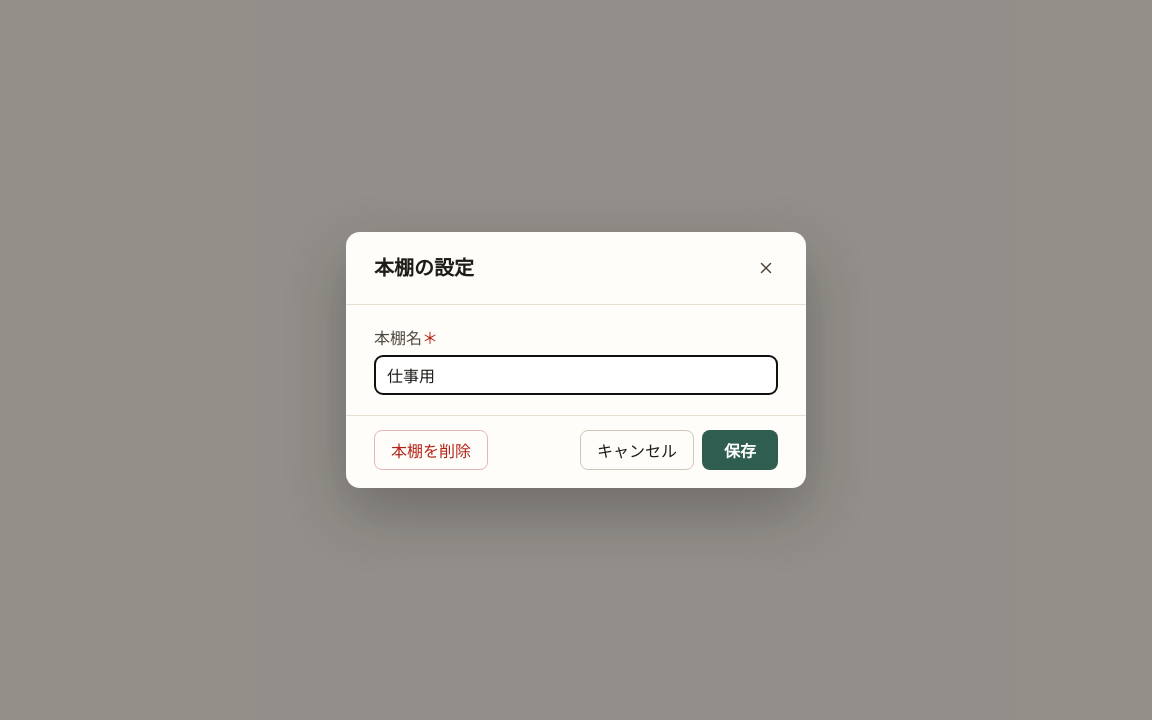
Test: 設定モード › 削除に失敗したら、エラーを画面右下に出す
Click the button "本棚を削除": (431, 450) [374, 430, 488, 470]
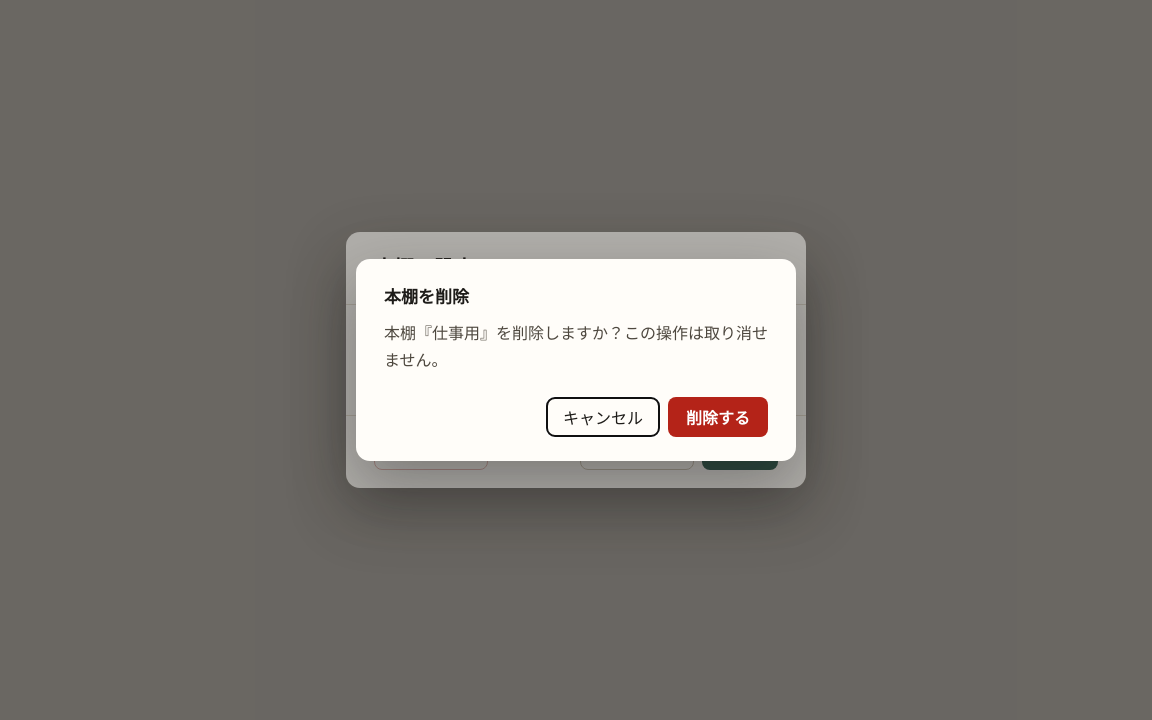
Click the button "削除する": (718, 417) [668, 397, 768, 437]
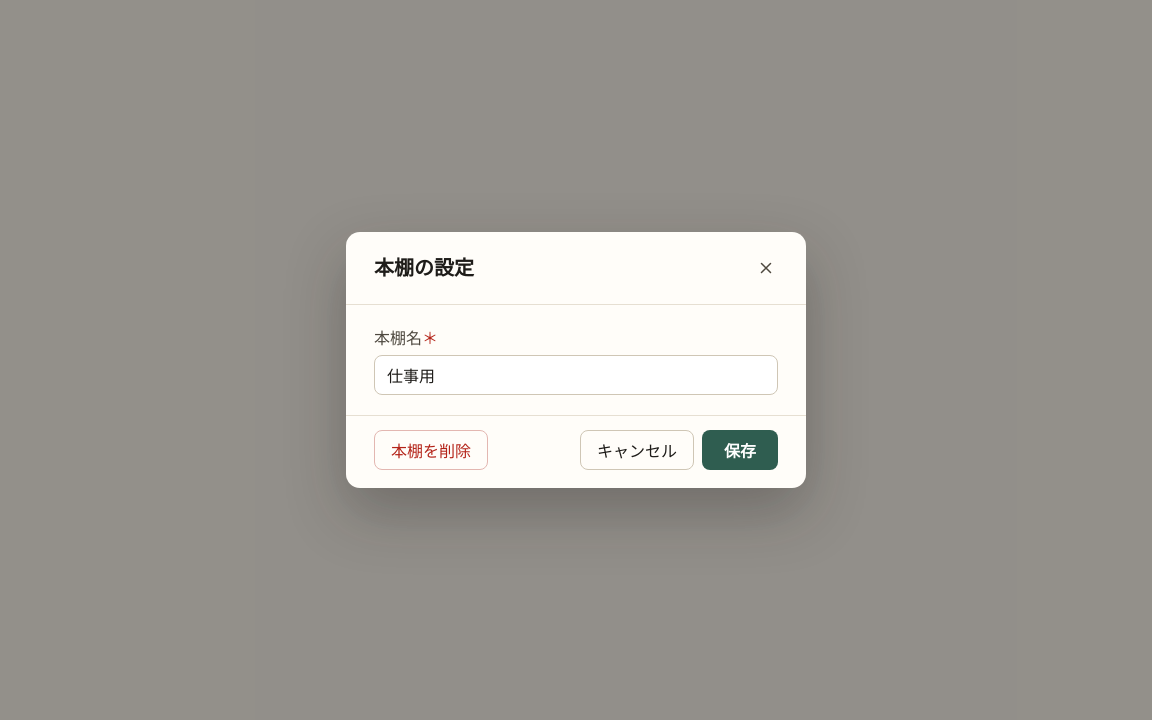
expect the dialog "本棚を削除 本棚『仕事用』を削除しますか？この操作は取り消せません。 キャンセル 削除する" is gone: met
